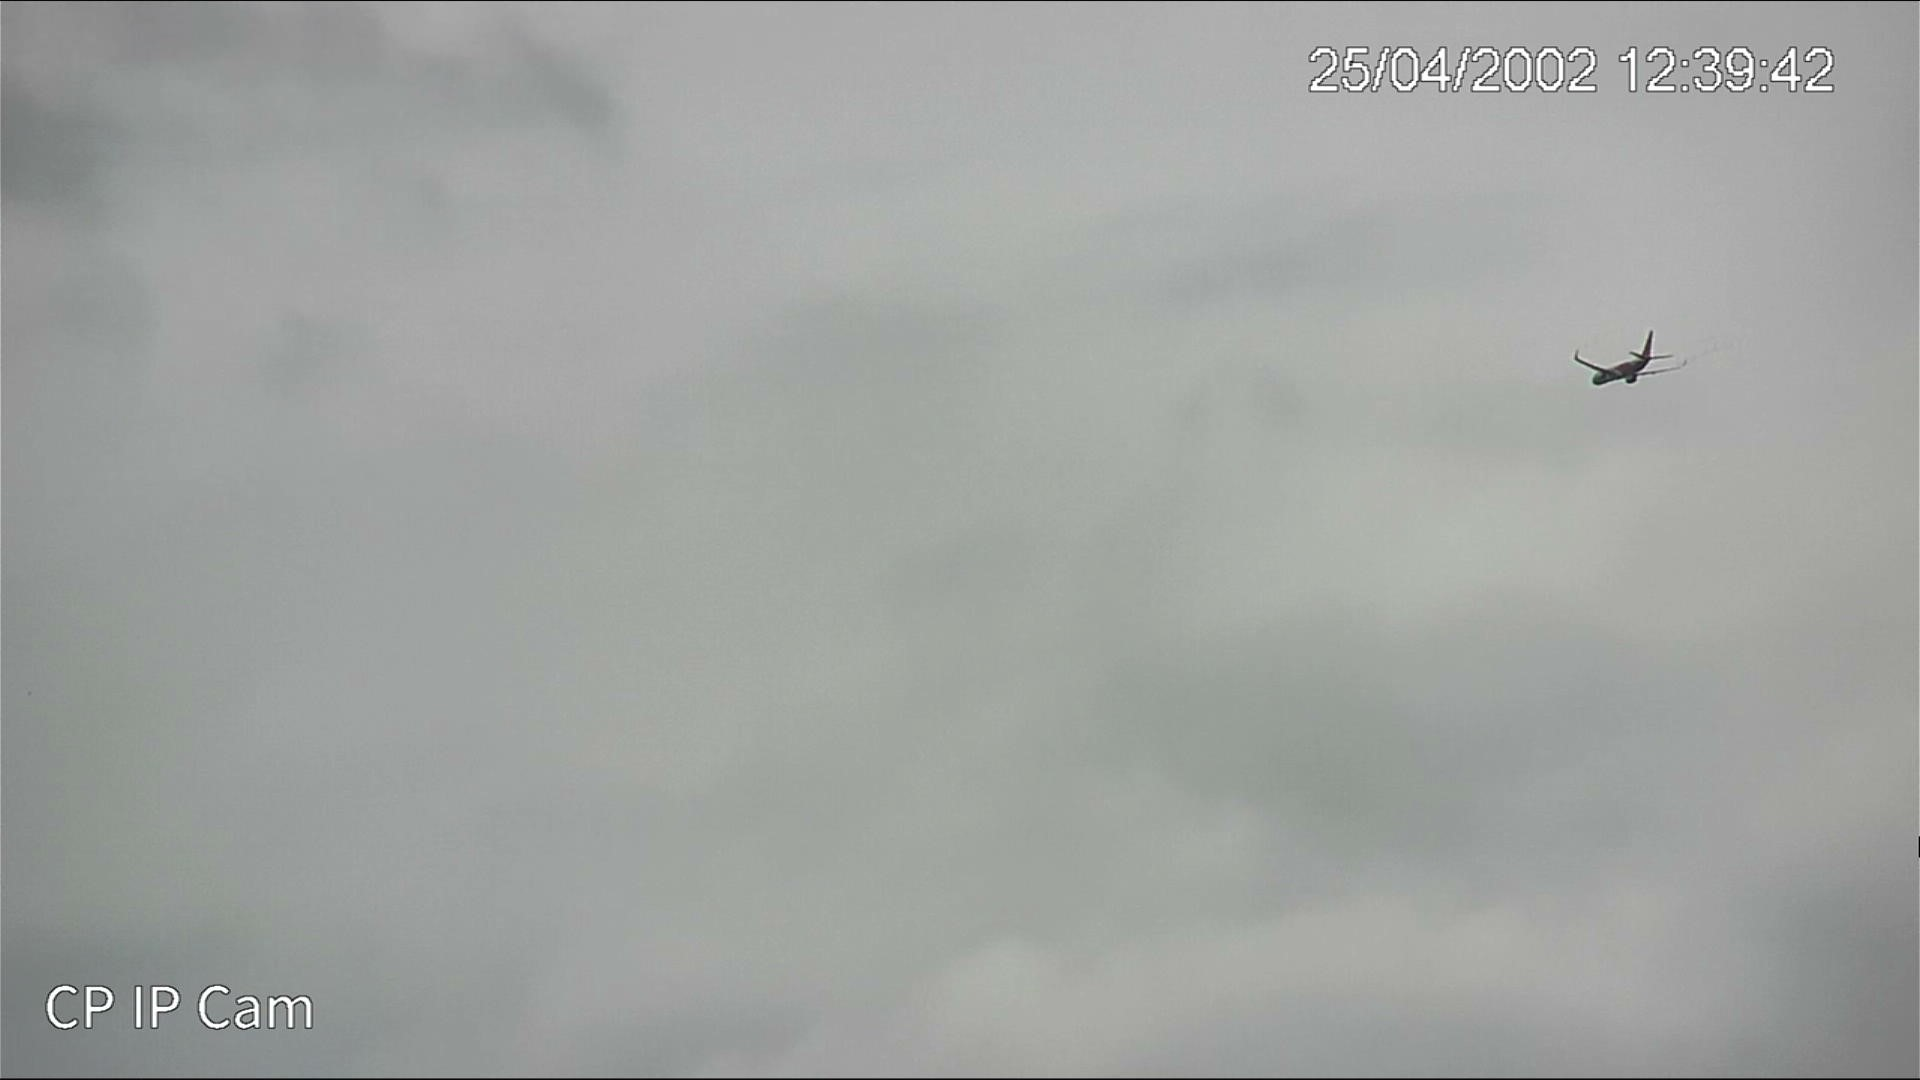SU_30: (1571, 334, 1677, 389)
